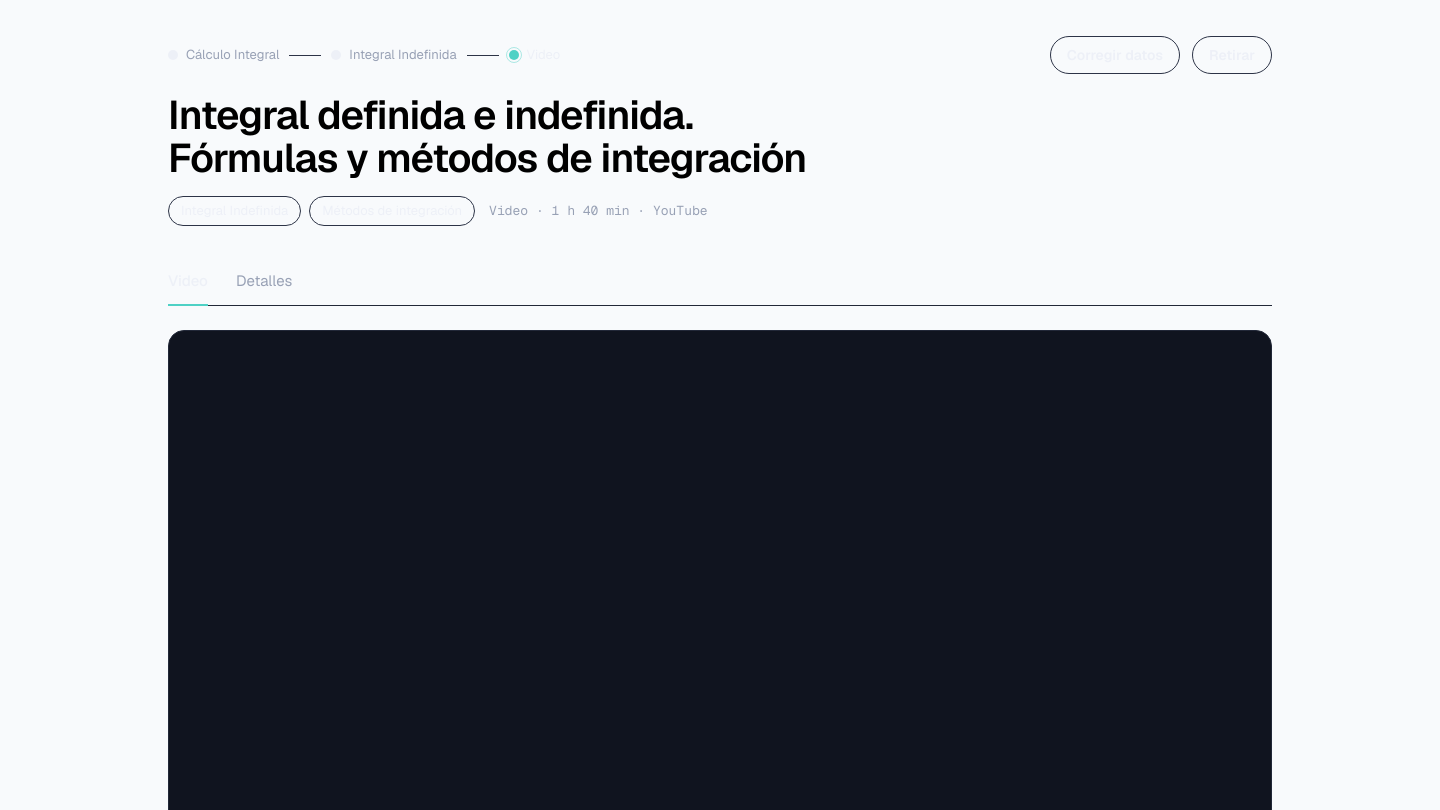
Test case: ResourceDetailPage: retirar y volver a publicar › al confirmar lo retira y la ficha pasa al aviso, con la opción de volver a publicarlo
What coordinates should you click on to do the following:
click the button "Retirar"
I would click on:
 (1232, 55)
Its box is [1192, 36, 1272, 74].
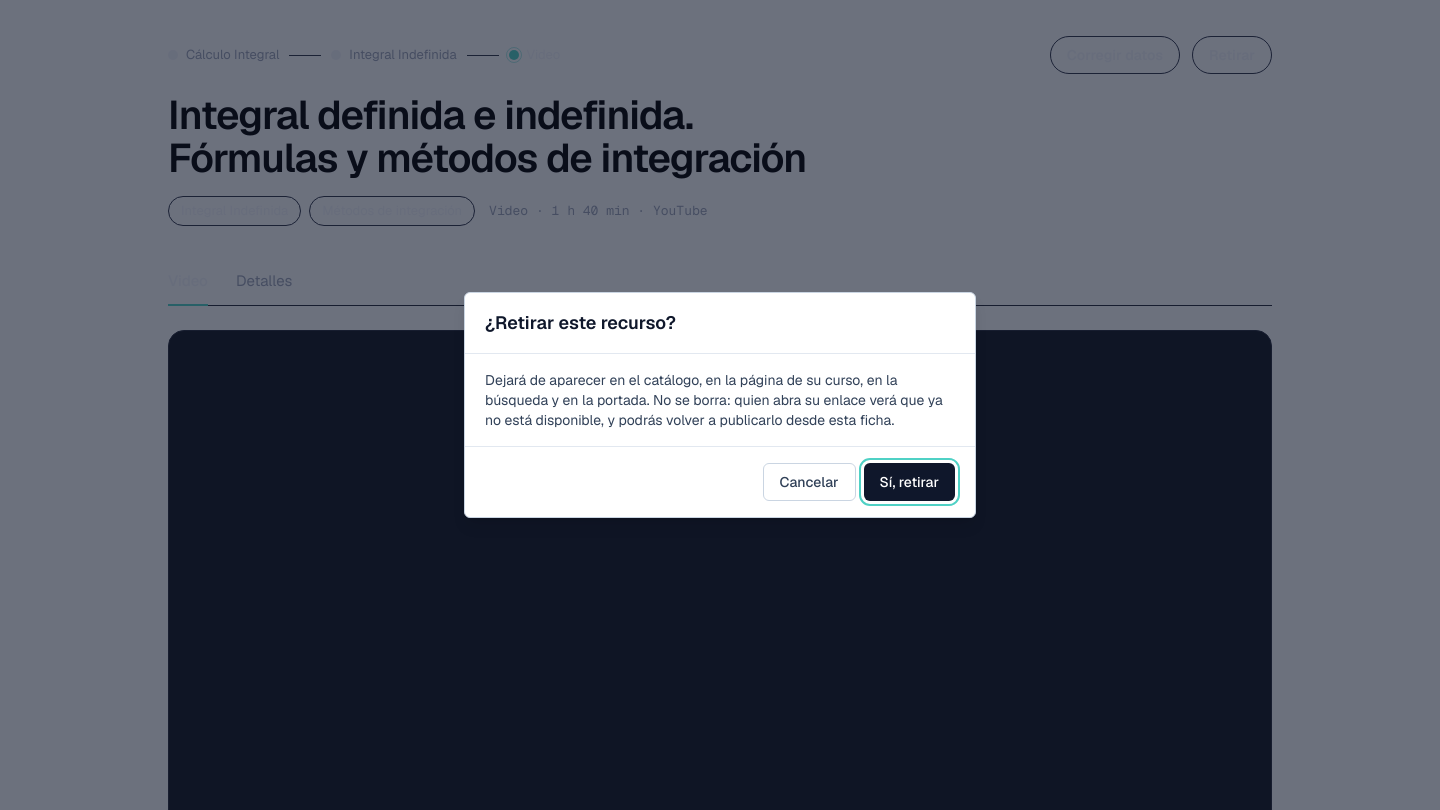
What coordinates should you click on to do the following:
click the button "Sí, retirar"
I would click on:
 (909, 482)
Its box is [864, 463, 955, 501].
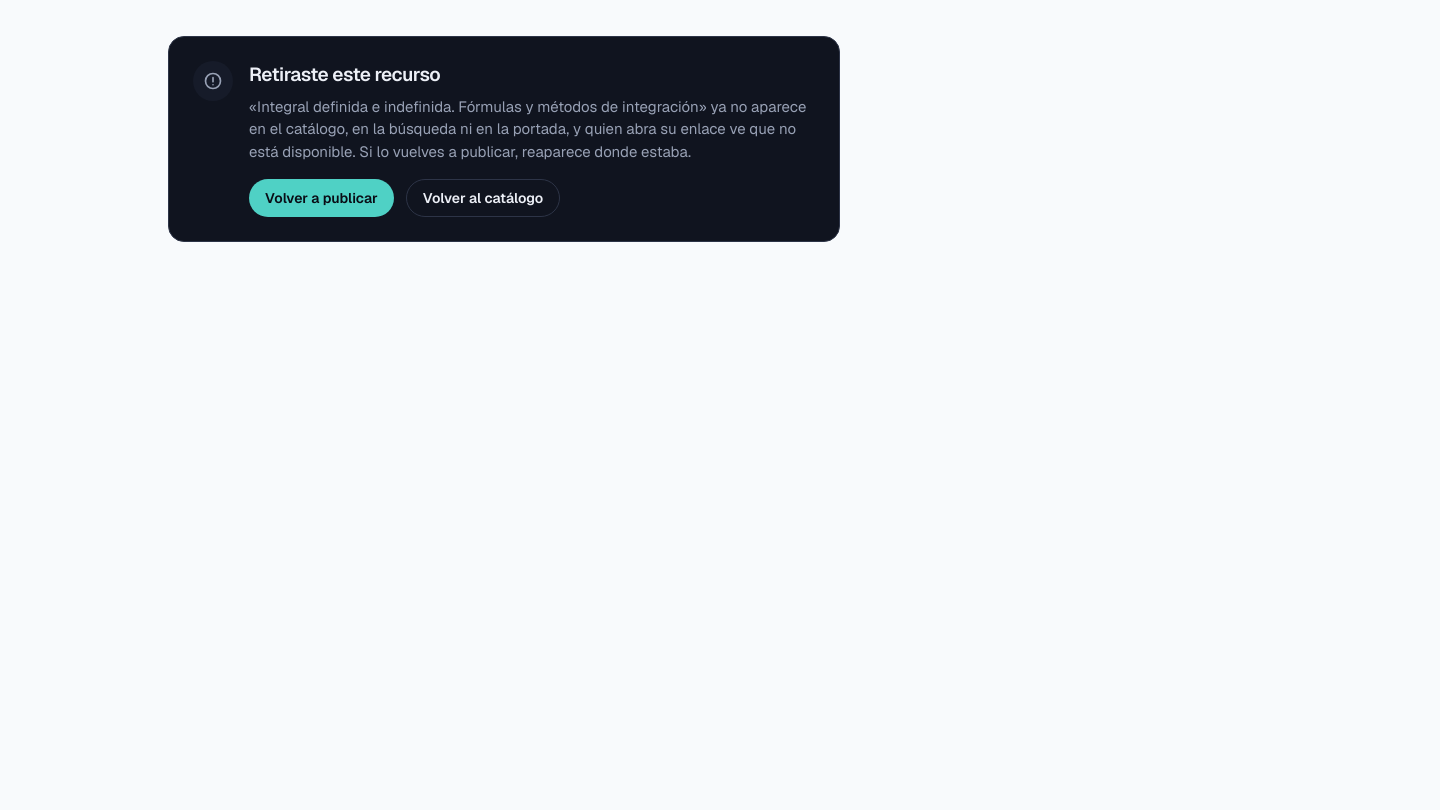
Expected: the button "Volver a publicar" is enabled, [249, 179, 394, 217]
Result: the heading "Retiraste este recurso" is shown at [249, 62, 440, 87]
Result: the list item "Video" is gone
